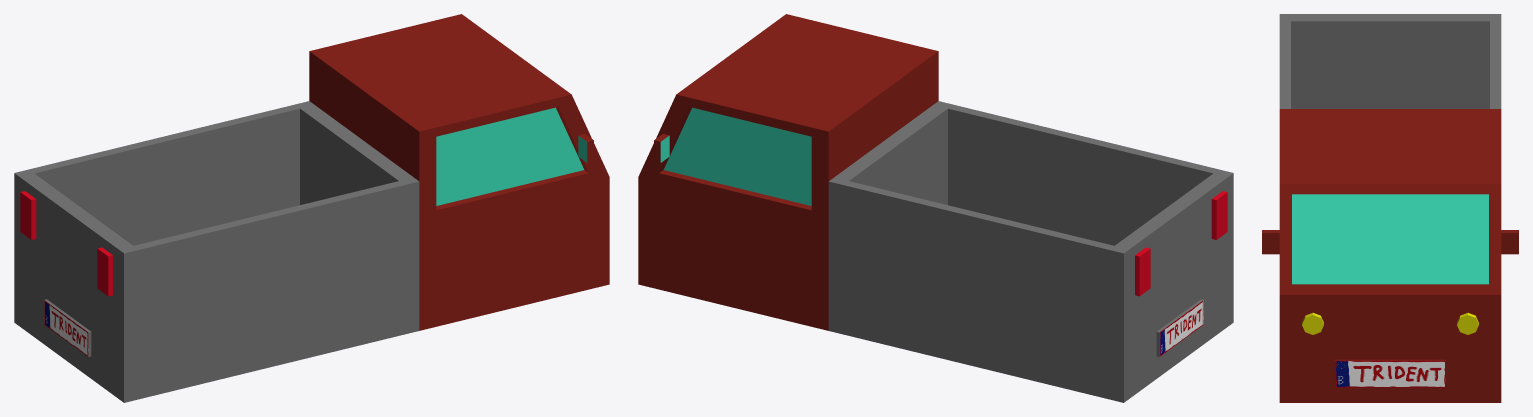
Rendered from truck3.glb.
3 renders of one model, left to right at view 1: azimuth 30°, elevation 25°; view 2: azimuth 150°, elevation 25°; view 3: azimuth 270°, elevation 25°, orthographic.
Parts seen in each view (by area): view 1: Cube.003, Cube, Cube.001, Cube.004; view 2: Cube.003, Cube, Cube.004, Cube.001; view 3: Cube, Cube.003, Cube.002, Cylinder, Cylinder.001.
Boxes of the visible parts, bbox=[...] form: Cube.003: bbox=[14, 101, 419, 402]; Cube: bbox=[309, 14, 609, 330]; Cube.001: bbox=[20, 191, 36, 239]; Cube.004: bbox=[97, 247, 112, 296]; Cube.003: bbox=[828, 101, 1233, 402]; Cube: bbox=[638, 14, 938, 330]; Cube.004: bbox=[1211, 191, 1227, 239]; Cube.001: bbox=[1135, 247, 1150, 296]; Cube: bbox=[1279, 109, 1501, 402]; Cube.003: bbox=[1279, 14, 1501, 108]; Cube.002: bbox=[1262, 230, 1518, 254]; Cylinder: bbox=[1457, 313, 1478, 334]; Cylinder.001: bbox=[1302, 313, 1323, 334].
Bounding box in the file's own units: 2.6 × 1 × 1.16.
8 materials, 1 textured.
